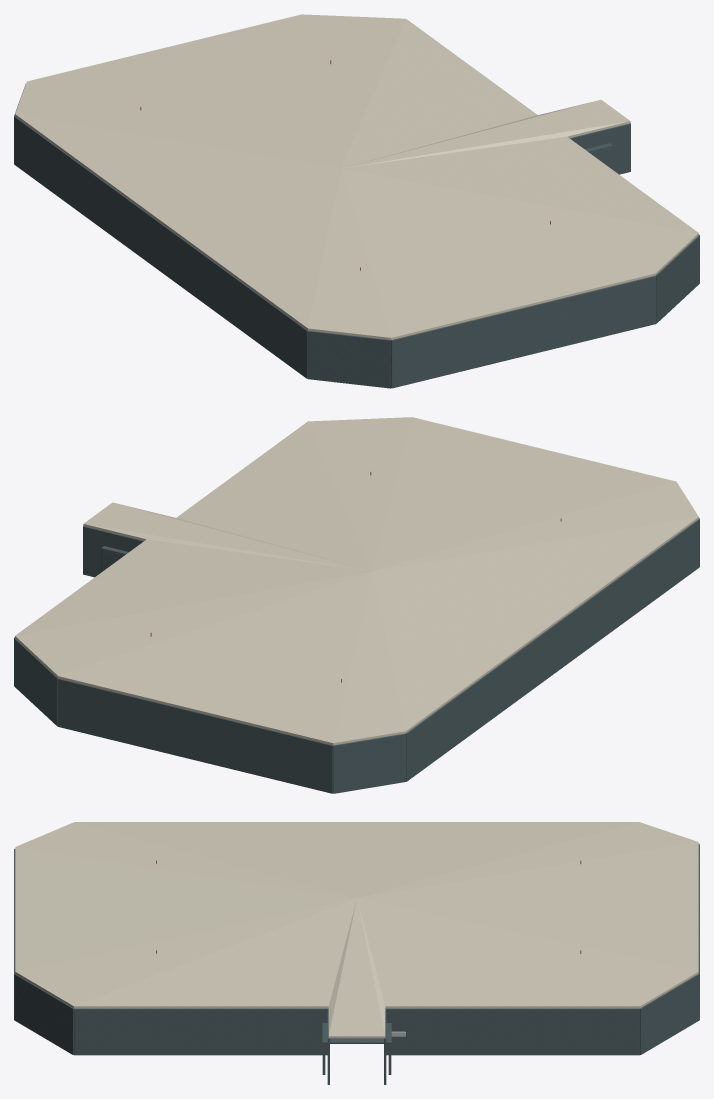
The model's file is SOL_D02_directory_09_source001.glb.
3 views of the same model, one above another, from view 1: azimuth 30°, elevation 25°; view 2: azimuth 150°, elevation 25°; view 3: azimuth 270°, elevation 25° (orthographic). The views are drawn at different scales.
Parts seen in each view (by area): view 1: Folded_roof_5, Folded_roof_7, Folded_roof_3, Enclosure_5, Folded_roof_9, Folded_roof_1, Enclosure_7, Folded_roof_8, Folded_roof_2, Folded_roof_6, Folded_roof_4, Enclosure_6 (+4 smaller); view 2: Folded_roof_5, Folded_roof_3, Folded_roof_7, Enclosure_5, Enclosure_3, Folded_roof_1, Folded_roof_9, Folded_roof_2, Folded_roof_8, Folded_roof_6, Folded_roof_4, Folded_roof_11 (+4 smaller); view 3: Folded_roof_3, Folded_roof_5, Folded_roof_7, Folded_roof_1, Folded_roof_9, Enclosure_9, Enclosure_1, Folded_roof_2, Folded_roof_8, Folded_roof_6, Folded_roof_4, Folded_roof_11 (+5 smaller).
Part boxes in pixels (box(x1,y1,x2,y2)): Folded_roof_5: box(15, 114, 340, 330); Folded_roof_7: box(341, 168, 655, 339); Folded_roof_3: box(27, 14, 340, 168); Enclosure_5: box(14, 116, 307, 378); Folded_roof_9: box(342, 136, 698, 232); Folded_roof_1: box(341, 19, 537, 168); Enclosure_7: box(391, 275, 655, 388); Folded_roof_8: box(343, 169, 698, 274); Folded_roof_2: box(301, 14, 405, 167); Folded_roof_6: box(308, 169, 391, 339); Folded_roof_4: box(15, 81, 339, 168); Enclosure_6: box(307, 330, 391, 388); Folded_roof_5: box(373, 517, 698, 732); Folded_roof_3: box(58, 571, 372, 745); Folded_roof_7: box(373, 417, 675, 570); Enclosure_5: box(406, 519, 699, 781); Enclosure_3: box(58, 678, 333, 793); Folded_roof_1: box(15, 539, 371, 635); Folded_roof_9: box(176, 421, 372, 570); Folded_roof_2: box(15, 571, 370, 677); Folded_roof_8: box(308, 417, 412, 570); Folded_roof_6: box(374, 481, 698, 570); Folded_roof_4: box(333, 571, 405, 745); Folded_roof_11: box(83, 502, 370, 570); Folded_roof_3: box(358, 842, 698, 971); Folded_roof_5: box(74, 822, 639, 897); Folded_roof_7: box(15, 847, 355, 971); Folded_roof_1: box(357, 898, 639, 1008); Folded_roof_9: box(74, 898, 356, 1008); Enclosure_9: box(74, 1008, 327, 1055); Enclosure_1: box(386, 1008, 639, 1055); Folded_roof_2: box(358, 898, 698, 1008); Folded_roof_8: box(15, 898, 355, 1008); Folded_roof_6: box(16, 822, 356, 898); Folded_roof_4: box(359, 822, 697, 897); Folded_roof_11: box(328, 899, 385, 1038).
Size of the model in its own units: 43.1 by 5.35 by 58.2.
12 materials, 12 textured.
